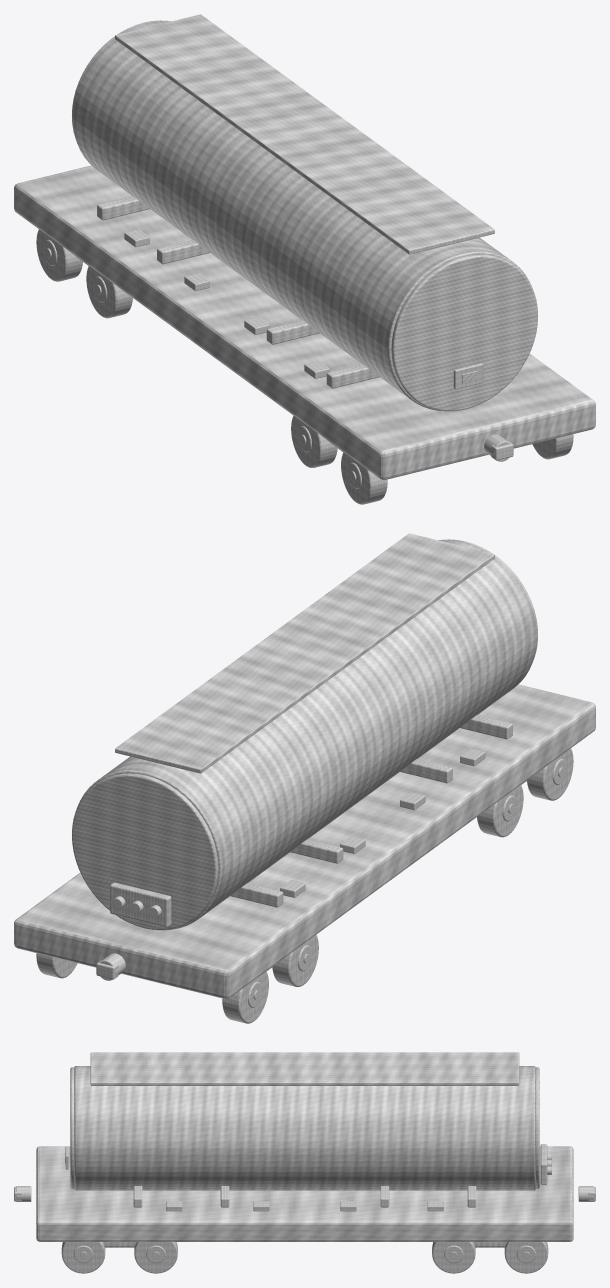
Rendered from freight_car_variant_c.glb.
3 renders of one model, top to bottom at view 1: azimuth 30°, elevation 25°; view 2: azimuth 150°, elevation 25°; view 3: azimuth 270°, elevation 25°, orthographic. The views are drawn at different scales.
Visible parts, largest first — view 1: Fluid tank body, Freight underframe.002, Top service walkway, Tank front cap, Rail wheel.016, Rail wheel.020, Rail wheel.018, Rail wheel.022, Tank support saddle.001, Tank support saddle, Tank support saddle.003, Tank support saddle.002 (+1 smaller); view 2: Fluid tank body, Freight underframe.002, Top service walkway, Tank rear cap, Tank service manifold, Rail wheel.022, Rail wheel.018, Rail wheel.020, Rail wheel.016, Tank support saddle.002, Tank support saddle.003, Tank support saddle (+2 smaller); view 3: Fluid tank body, Freight underframe.002, Top service walkway, Rail wheel.017, Rail wheel.023, Rail wheel.019, Rail wheel.021, Tank front cap, Tank rear cap, Tank service manifold.
Part boxes in pixels (box(x1,y1,x2,y2)): Fluid tank body: box(73, 20, 532, 410); Freight underframe.002: box(14, 165, 595, 479); Top service walkway: box(115, 14, 494, 254); Tank front cap: box(391, 254, 537, 411); Rail wheel.016: box(341, 452, 387, 504); Rail wheel.020: box(86, 266, 132, 318); Rail wheel.018: box(291, 416, 337, 467); Rail wheel.022: box(36, 229, 82, 281); Tank support saddle.001: box(266, 320, 319, 344); Tank support saddle: box(326, 364, 379, 388); Tank support saddle.003: box(97, 196, 149, 220); Tank support saddle.002: box(157, 240, 209, 264); Fluid tank body: box(77, 539, 536, 929); Freight underframe.002: box(14, 684, 595, 998); Top service walkway: box(115, 533, 494, 773); Tank rear cap: box(72, 773, 218, 930); Tank service manifold: box(110, 882, 171, 927); Rail wheel.022: box(222, 971, 268, 1023); Rail wheel.018: box(477, 785, 523, 837); Rail wheel.020: box(272, 935, 318, 986); Rail wheel.016: box(527, 748, 573, 800); Tank support saddle.002: box(290, 839, 343, 863); Tank support saddle.003: box(230, 883, 283, 907); Tank support saddle: box(460, 715, 512, 739); Fluid tank body: box(74, 1066, 535, 1190); Freight underframe.002: box(36, 1146, 573, 1241); Top service walkway: box(90, 1052, 519, 1085); Rail wheel.017: box(61, 1242, 105, 1273); Rail wheel.023: box(504, 1242, 548, 1273); Rail wheel.019: box(134, 1242, 177, 1273); Rail wheel.021: box(432, 1242, 475, 1273); Tank front cap: box(70, 1067, 74, 1189); Tank rear cap: box(535, 1067, 539, 1189); Tank service manifold: box(540, 1144, 547, 1184).
Size of what is drawn, in the model's own units: 5 by 5.18 by 16.03.
5 materials, 5 textured.
